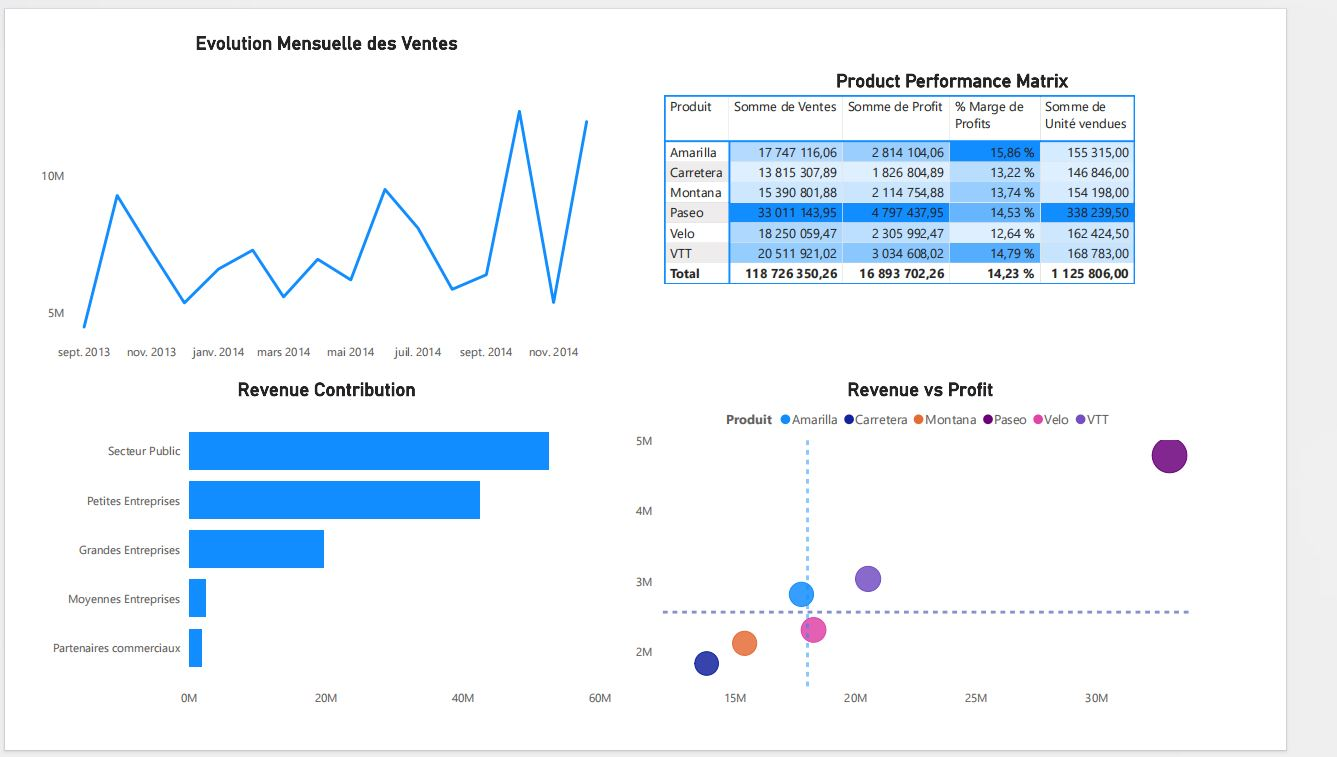

Layout of this report page (visuals, bound fields, positions):
{"tool":"powerbi","page":{"name":"Performance des ventes et facteurs clés","canvas":[1280,720],"ordinal":1},"visuals":[{"type":"lineChart","title":"Evolution Mensuelle des Ventes","fields":{"Y":["Sum(financials.Ventes)"],"Category":["Calendrier.Date"]},"box":[8.5,0,601.2,348.8],"z":0},{"type":"barChart","title":"Contribution au chiffre d''affaires par segment","fields":{"Category":["financials.Segment"],"Y":["Sum(financials.Ventes)"]},"box":[9,359,601,349],"z":1000},{"type":"pivotTable","title":"Matrice de performance des produits","fields":{"Rows":["financials.Produit"],"Values":["Sum(financials.Ventes)","Sum(financials.Profit)","financials.% Marge de Profits","Sum(financials.Unité vendues)"]},"box":[654.8,38.7,606.5,271],"z":2000},{"type":"scatterChart","title":"Chiffre d''affaires et profit par produit","fields":{"X":["Sum(financials.Ventes)"],"Y":["Sum(financials.Profit)"],"Size":["Sum(financials.Unité vendues)"],"Series":["financials.Produit"]},"box":[625,359,600,349],"z":3000}]}

Visuals, with their boxes in screenshot pixels (x1, y1, x2, y2), scaled from the page's 1280x720 canvas onto the 1337x757 screenshot:
"Evolution Mensuelle des Ventes" lineChart: <region>9, 0, 637, 367</region>
"Contribution au chiffre d''affaires par segment" barChart: <region>9, 377, 637, 744</region>
"Matrice de performance des produits" pivotTable: <region>684, 41, 1317, 326</region>
"Chiffre d''affaires et profit par produit" scatterChart: <region>653, 377, 1280, 744</region>
